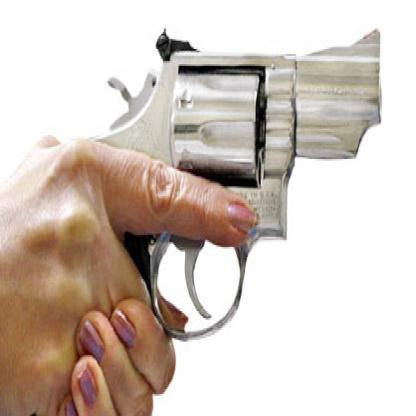pistol: (78, 27, 385, 340)
